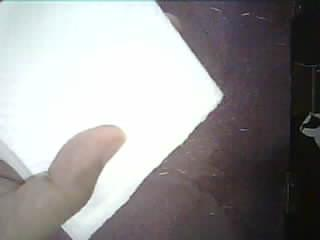paper: (0, 1, 222, 238)
